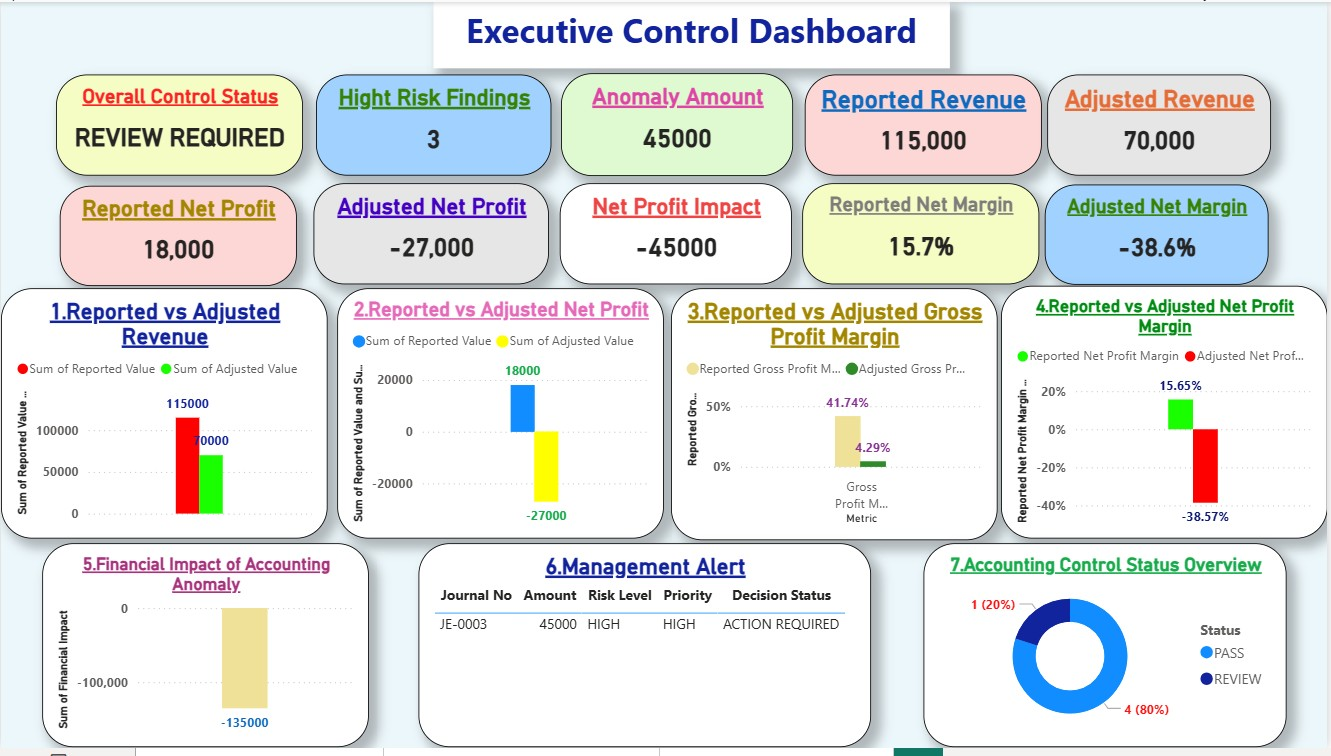

The dashboard page shown, as its layout file describes it:
{"tool":"powerbi","page":{"name":"Executive Control Dashboard","canvas":[1280,720],"ordinal":0},"visuals":[{"type":"card","title":"Overall Control Status","fields":{"Values":["Measures (2).Overall Control Status"]},"box":[53.6,70.3,238.5,97.9],"z":0},{"type":"textbox","box":[417.3,0,498.2,63.9],"z":1000},{"type":"card","title":"Hight Risk Findings","fields":{"Values":["Measures (2).High Risk Findings"]},"box":[304,69.7,227.1,97.9],"z":2000},{"type":"card","title":"Anomaly Amount","fields":{"Values":["Measures (2).Anomaly Amount"]},"box":[541,68.3,224.3,99.4],"z":3000},{"type":"card","title":"Reported Revenue","fields":{"Values":["Measures (2).Reported Revenue"]},"box":[775.2,69.7,228.5,97.9],"z":4000},{"type":"card","title":"Adjusted Revenue","fields":{"Values":["Measures (2).Adjusted Revenue"]},"box":[1009.4,69.7,215.7,97.9],"z":5000},{"type":"card","title":"Reported Net Profit","fields":{"Values":["Measures (2).Reported Net Profit"]},"box":[56.4,176.8,228.5,96.5],"z":6000},{"type":"card","title":"Adjusted Net Profit ","fields":{"Values":["Measures (2).Adjusted Net Profit"]},"box":[302,174.9,227.1,97.9],"z":7000},{"type":"card","title":"Net Profit Impact","fields":{"Values":["Measures (2).Net Profit Impact"]},"box":[539,174.9,224.3,97.9],"z":8000},{"type":"card","title":"Reported Net Margin","fields":{"Values":["Measures (2).Reported Net Margin"]},"box":[773.2,174.9,228.5,97.9],"z":9000},{"type":"card","title":"Adjusted Net Margin","fields":{"Values":["Measures (2).Adjusted Net Margin"]},"box":[1007.4,176.3,215.7,96.5],"z":10000},{"type":"clusteredColumnChart","title":"1.Reported vs Adjusted Revenue","fields":{"Y":["Sum(PowerBI_Impact.Reported Value)","Sum(PowerBI_Impact.Adjusted Value)"]},"box":[0,276.7,315.1,241.3],"z":11000},{"type":"clusteredColumnChart","title":"2.Reported vs Adjusted Net Profit","fields":{"Y":["Sum(PowerBI_Impact.Reported Value)","Sum(PowerBI_Impact.Adjusted Value)"]},"box":[324.3,276.7,315.1,241.3],"z":12000},{"type":"clusteredColumnChart","title":"3.Reported vs Adjusted Gross Profit Margin","fields":{"Category":["PowerBI_Impact.Metric"],"Y":["Measures (2).Reported Gross Profit Margin","Measures (2).Adjusted Gross Profit Margin"]},"box":[647.1,276.7,315.1,242.8],"z":13000},{"type":"clusteredColumnChart","title":"4.Reported vs Adjusted Net Profit Margin","fields":{"Y":["Measures (2).Reported Net Profit Margin","Measures (2).Adjusted Net Profit Margin"]},"box":[964.9,273.6,315.1,244.4],"z":14000},{"type":"clusteredColumnChart","title":"5.Financial Impact of Accounting Anomaly","fields":{"Y":["Sum(PowerBI_Impact.Financial Impact)"]},"box":[40,522.6,315.1,196.7],"z":15000},{"type":"tableEx","title":"6.Management Alert","fields":{"Values":["PowerBI_Management.Journal No","PowerBI_Management.Amount","PowerBI_Management.Risk Level","PowerBI_Management.Priority","PowerBI_Management.Decision Status"]},"box":[402.7,522.6,436.5,196.7],"z":16000},{"type":"donutChart","title":"7.Accounting Control Status Overview","fields":{"Category":["PowerBI_Control.Status"],"Y":["CountNonNull(PowerBI_Control.Control Area)"]},"box":[889.9,522.6,350.4,196.7],"z":17000}]}

Visuals, with their boxes in screenshot pixels (x1, y1, x2, y2), scaled from the page's 1280x720 canvas onto the 1331x756 screenshot:
"Overall Control Status" card: bbox=[56, 74, 304, 177]
textbox: bbox=[434, 0, 952, 67]
"Hight Risk Findings" card: bbox=[316, 73, 552, 176]
"Anomaly Amount" card: bbox=[563, 72, 796, 176]
"Reported Revenue" card: bbox=[806, 73, 1044, 176]
"Adjusted Revenue" card: bbox=[1050, 73, 1274, 176]
"Reported Net Profit" card: bbox=[59, 186, 296, 287]
"Adjusted Net Profit " card: bbox=[314, 184, 550, 286]
"Net Profit Impact" card: bbox=[560, 184, 794, 286]
"Reported Net Margin" card: bbox=[804, 184, 1042, 286]
"Adjusted Net Margin" card: bbox=[1048, 185, 1272, 286]
"1.Reported vs Adjusted Revenue" clusteredColumnChart: bbox=[0, 291, 328, 544]
"2.Reported vs Adjusted Net Profit" clusteredColumnChart: bbox=[337, 291, 665, 544]
"3.Reported vs Adjusted Gross Profit Margin" clusteredColumnChart: bbox=[673, 291, 1001, 545]
"4.Reported vs Adjusted Net Profit Margin" clusteredColumnChart: bbox=[1003, 287, 1330, 544]
"5.Financial Impact of Accounting Anomaly" clusteredColumnChart: bbox=[42, 549, 369, 755]
"6.Management Alert" tableEx: bbox=[419, 549, 873, 755]
"7.Accounting Control Status Overview" donutChart: bbox=[925, 549, 1290, 755]
